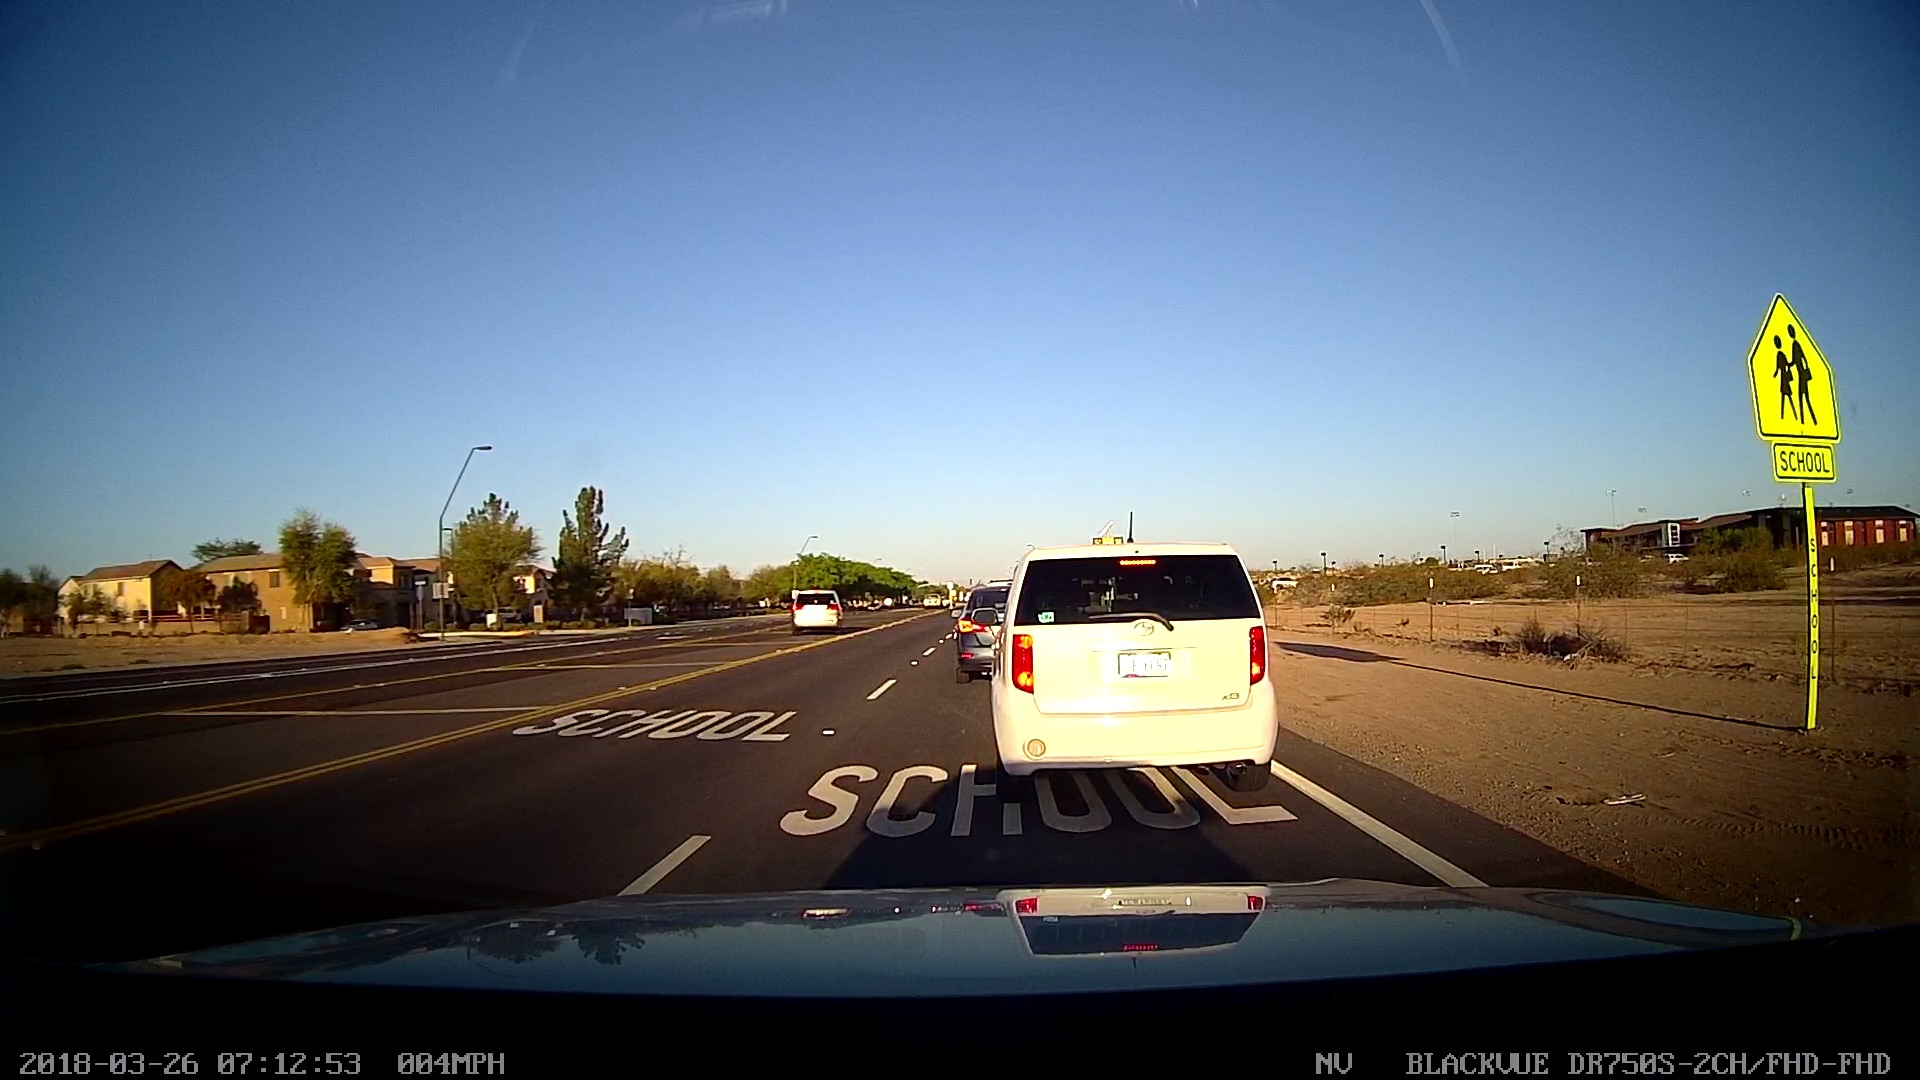plate: (1106, 639, 1183, 687)
vehicle: (979, 532, 1289, 806), (782, 573, 842, 639)
